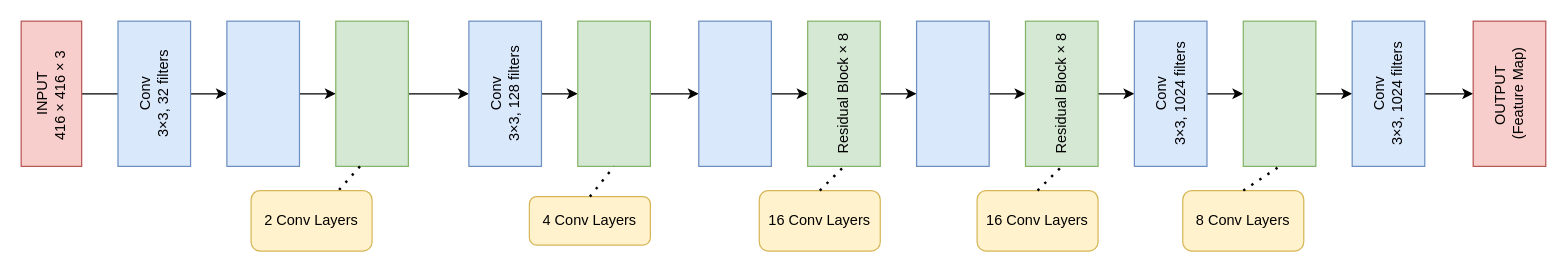
This 1567x272 diagram has some shape labels left out. The box of each missing label's shape, as (x1, y1, x2, y2) in pixels:
Conv 3×3, 256 filters: (698, 20, 771, 166)
Conv 3×3, 512 filters: (915, 20, 989, 166)
Conv 3×3, 64 filters: (226, 20, 299, 166)
Residual Block × 1: (335, 20, 408, 166)
Residual Block × 2: (577, 20, 650, 166)
Residual Block × 4: (1242, 20, 1316, 166)
